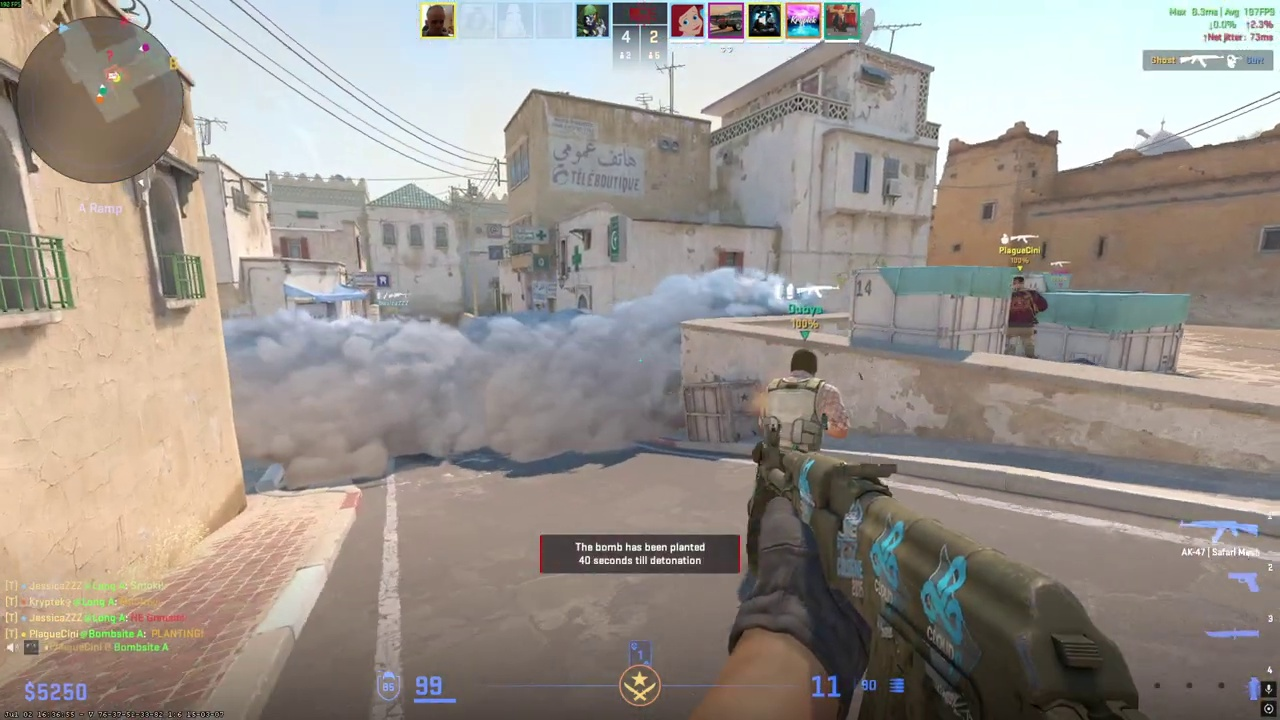Terrorist: (751, 348, 844, 463), (1003, 275, 1042, 358)
